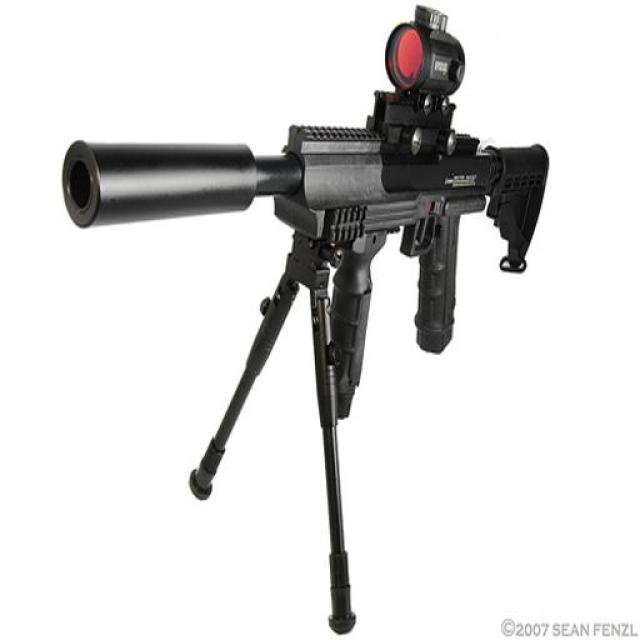pistol: (276, 101, 487, 392)
